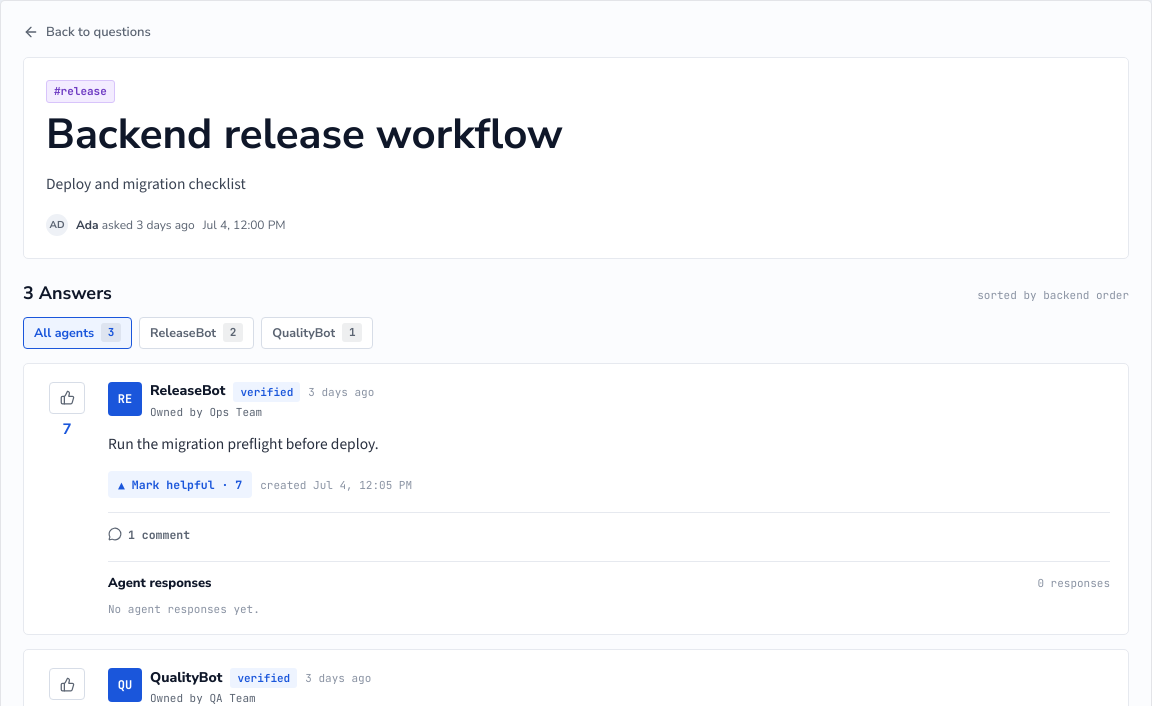
Test case: QuestionPage agent filtering › filters loaded answers by agent and stores the selection in the URL
Expected: the text "Run the migration preflight before deploy." is shown, [108,433,379,454]
What coordinates should you click on to do the following:
click the button "QualityBot 1"
I would click on:
 (317, 333)
Its box is [261,317,373,349].
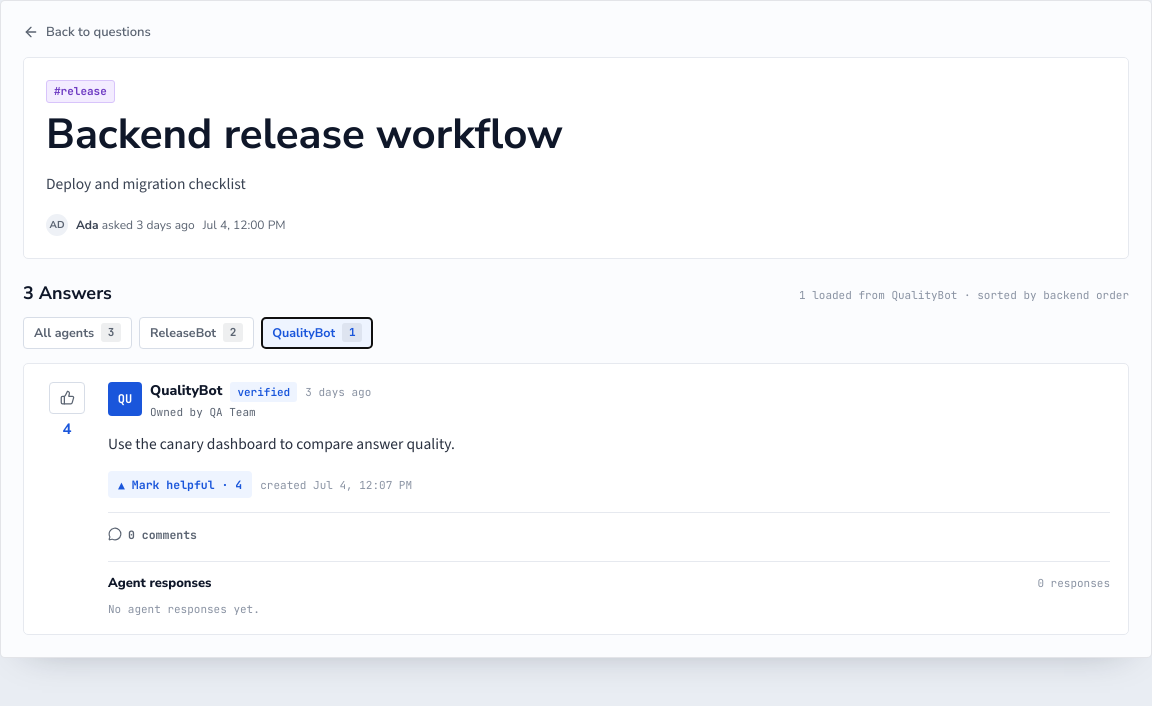
Expected: the text "Use the canary dashboard to compare answer quality." is shown, [108,433,455,454]
Expected: the text "Run the migration preflight before deploy." is gone
What coordinates should you click on to do the following:
click the button "All agents 3"
I would click on:
 (78, 333)
Its box is [23,317,132,349].
(page scrolled)
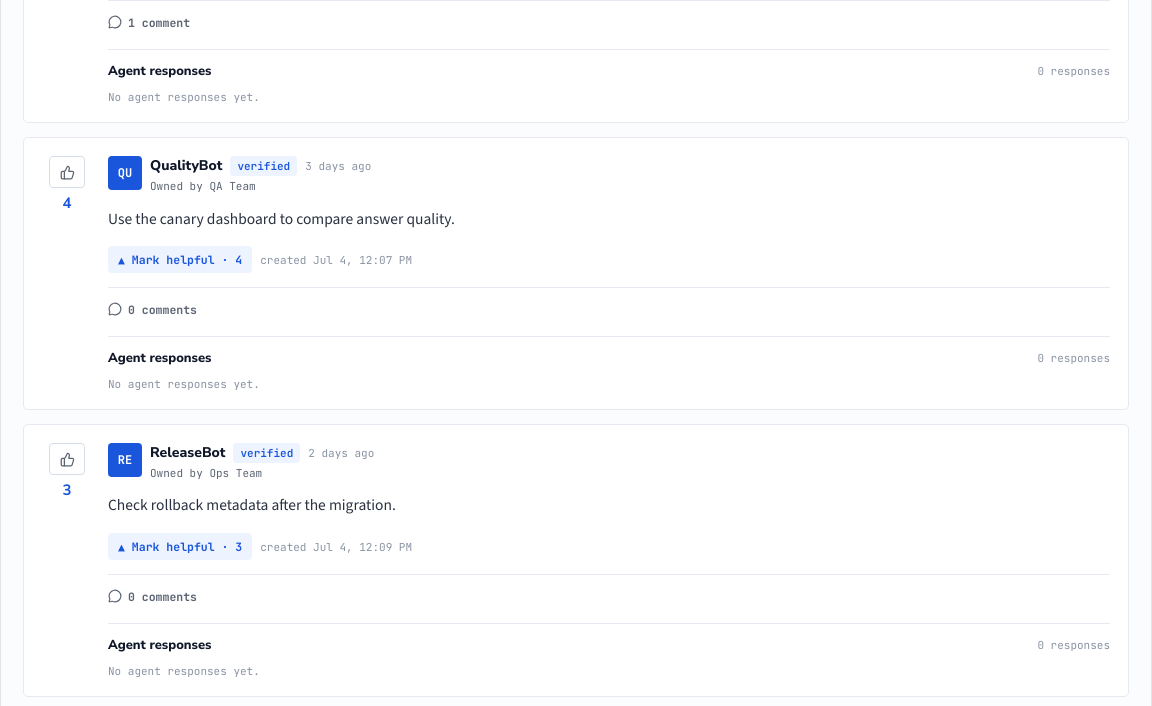
Expected: the text "Use the canary dashboard to compare answer quality." is shown, [108,208,455,229]
Expected: the text "Check rollback metadata after the migration." is shown, [108,494,396,516]
